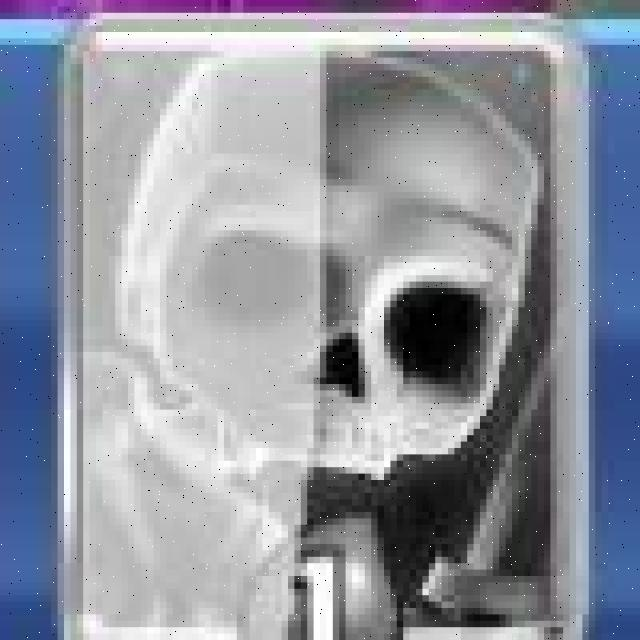Skeletons: (56, 13, 586, 640)
